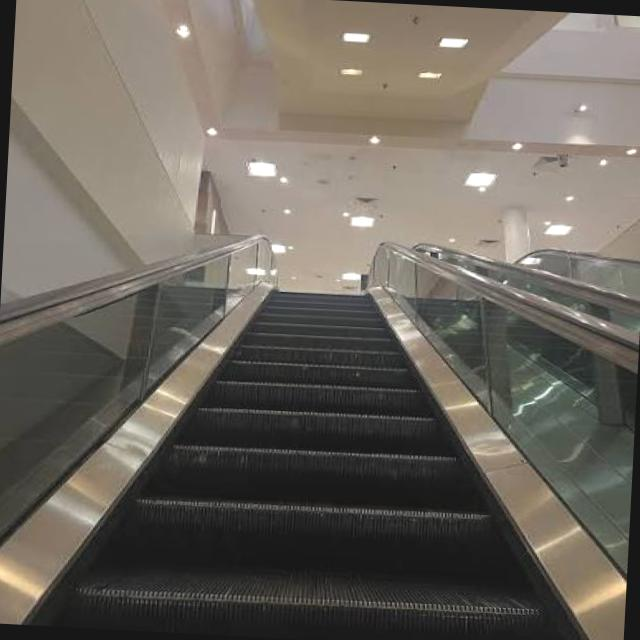escalator: (0, 224, 636, 640)
